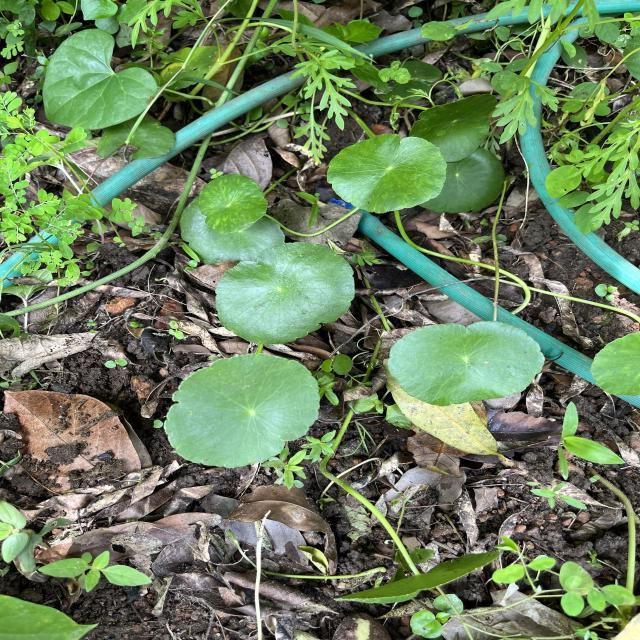Bacopa monnieri: (161, 351, 322, 469), (212, 239, 357, 347), (386, 319, 547, 408), (326, 132, 449, 215), (196, 172, 269, 236)
